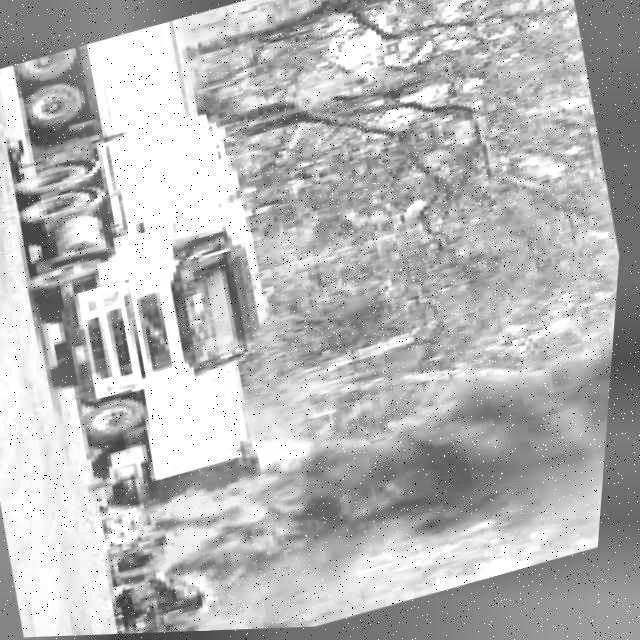Fire: (91, 449, 360, 636)
Smoke: (244, 323, 620, 616)
